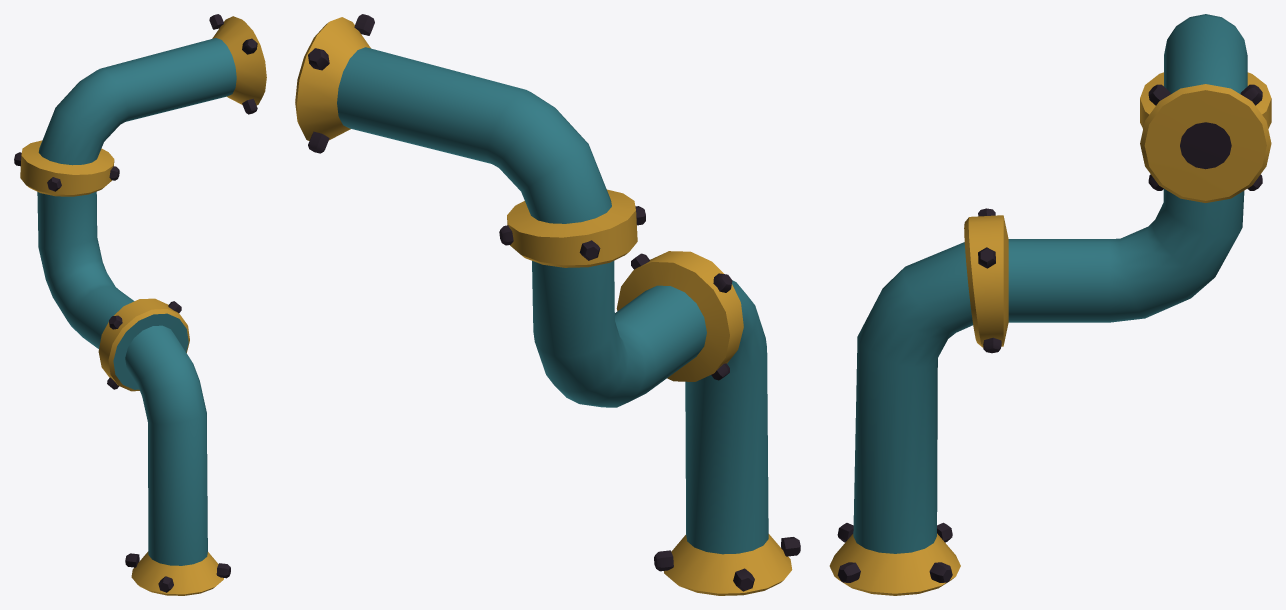
File: PipeRun_28.glb
3 views of the same model, side by side, from view 1: azimuth 30°, elevation 25°; view 2: azimuth 150°, elevation 25°; view 3: azimuth 270°, elevation 25° (orthographic). The views are drawn at different scales.
Parts seen in each view (by area): view 1: PipeRun_28; view 2: PipeRun_28; view 3: PipeRun_28.
Part boxes in pixels (box(x1,y1,x2,y2)): PipeRun_28: box(14, 14, 266, 595); PipeRun_28: box(295, 14, 800, 595); PipeRun_28: box(829, 14, 1271, 595).
Bounding box in the file's own units: 2.8 × 5.31 × 3.51.
